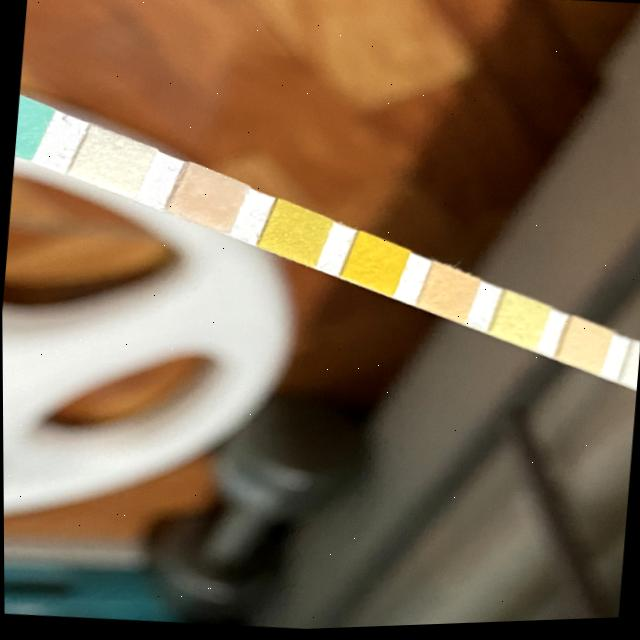Bilirubin: (82, 139, 143, 188)
Blood: (352, 245, 399, 289)
Glucose: (15, 104, 41, 146)
Ketone: (184, 178, 236, 221)
Nitrite: (629, 357, 639, 391)
Protein: (500, 303, 541, 346)
SpGravity: (273, 212, 322, 258)
Urobilinogen: (567, 329, 604, 370)
pH: (426, 273, 469, 318)
